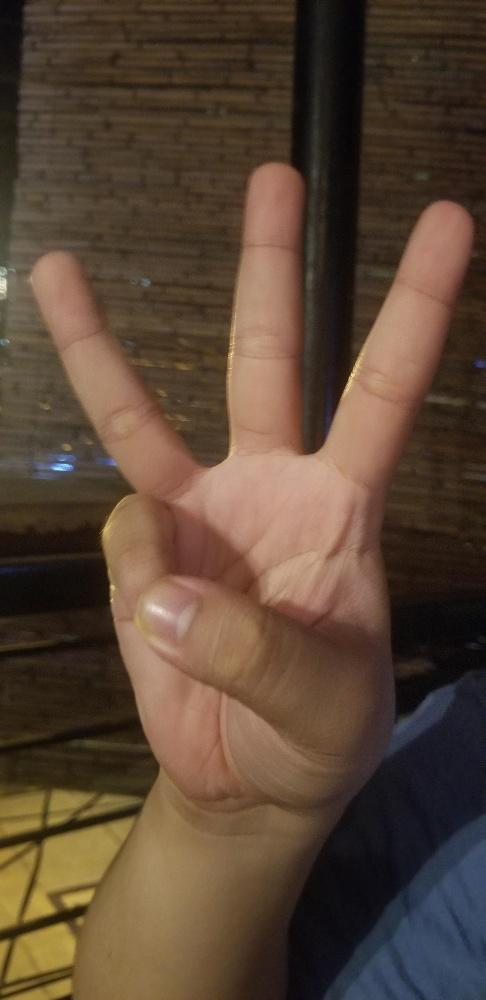w: (29, 157, 475, 797)
